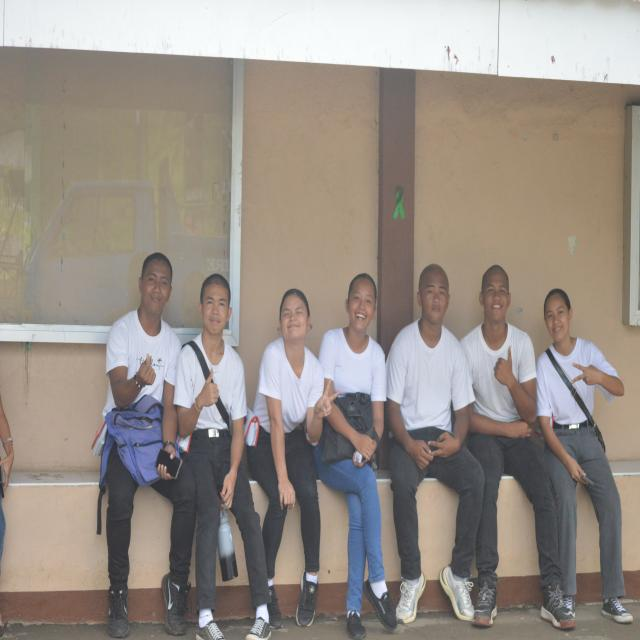person: (461, 265, 575, 628), (175, 274, 270, 639), (387, 265, 483, 623), (248, 289, 330, 628), (537, 353, 632, 623), (314, 406, 397, 639), (104, 253, 181, 457), (0, 399, 13, 491)
